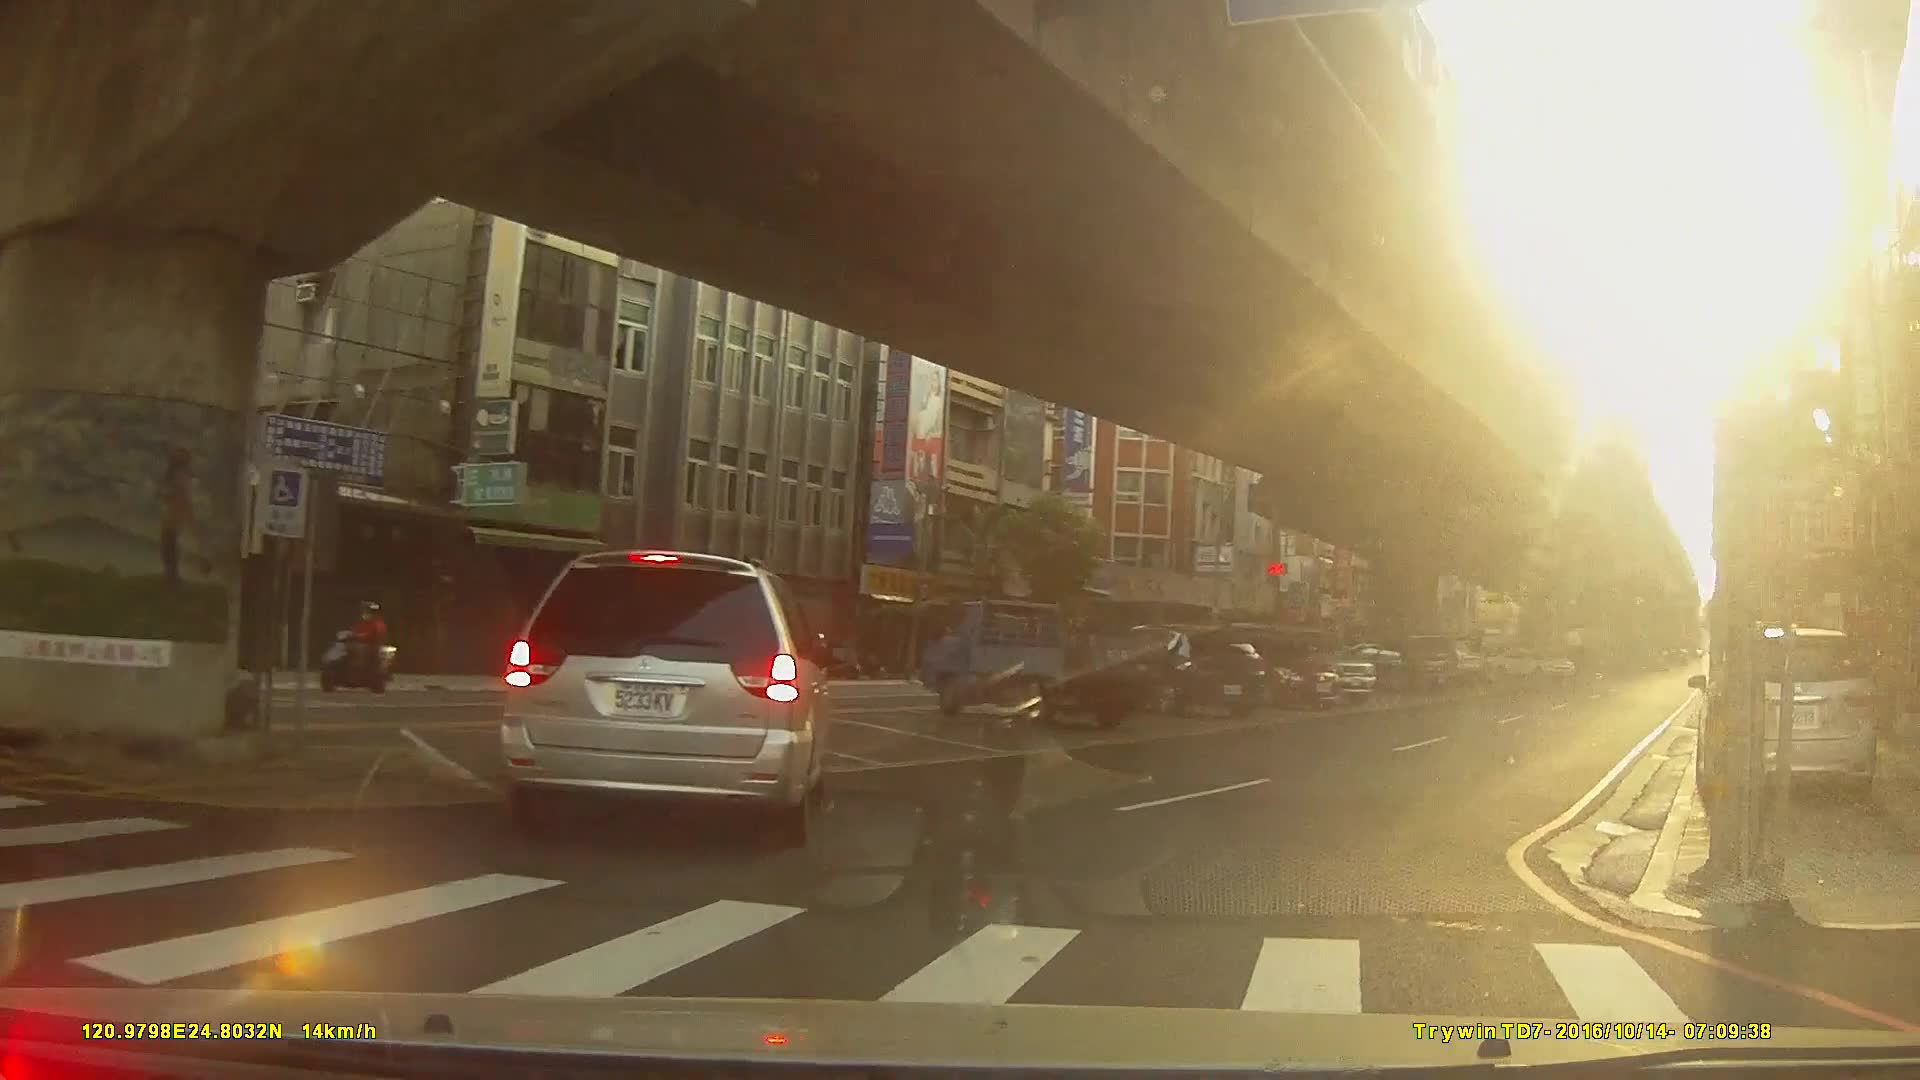rider: (320, 602, 398, 693)
vehicle: (501, 547, 834, 847), (1696, 622, 1878, 808), (919, 594, 1146, 722), (1091, 620, 1263, 717), (1181, 628, 1343, 708), (1321, 638, 1430, 691)
